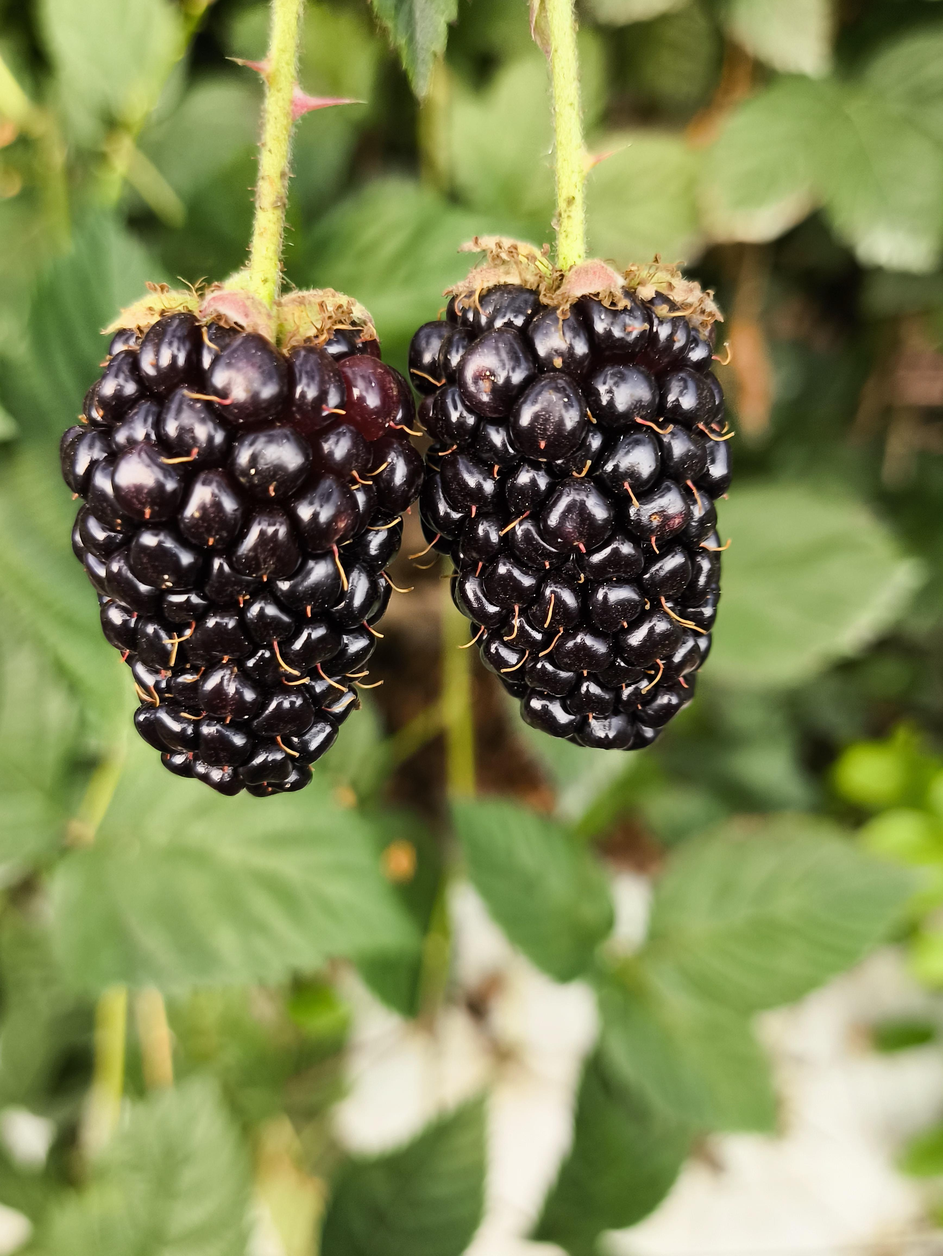maduro: (71, 287, 409, 792), (416, 270, 725, 751)
